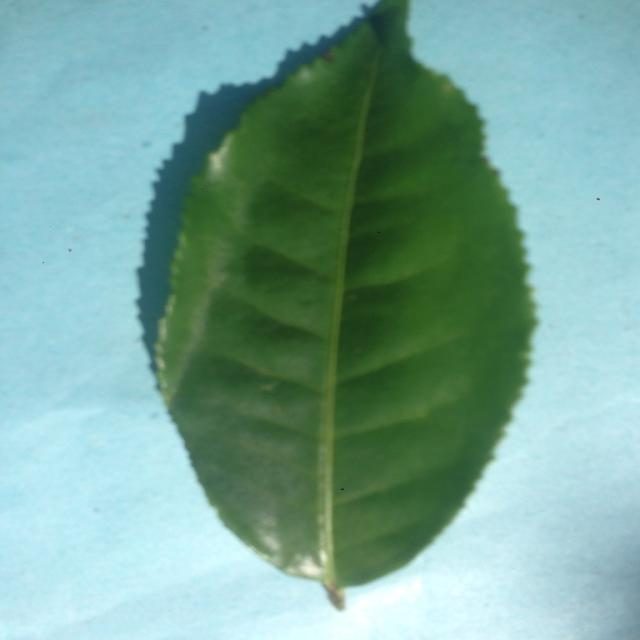Healthy: (129, 0, 567, 625)
